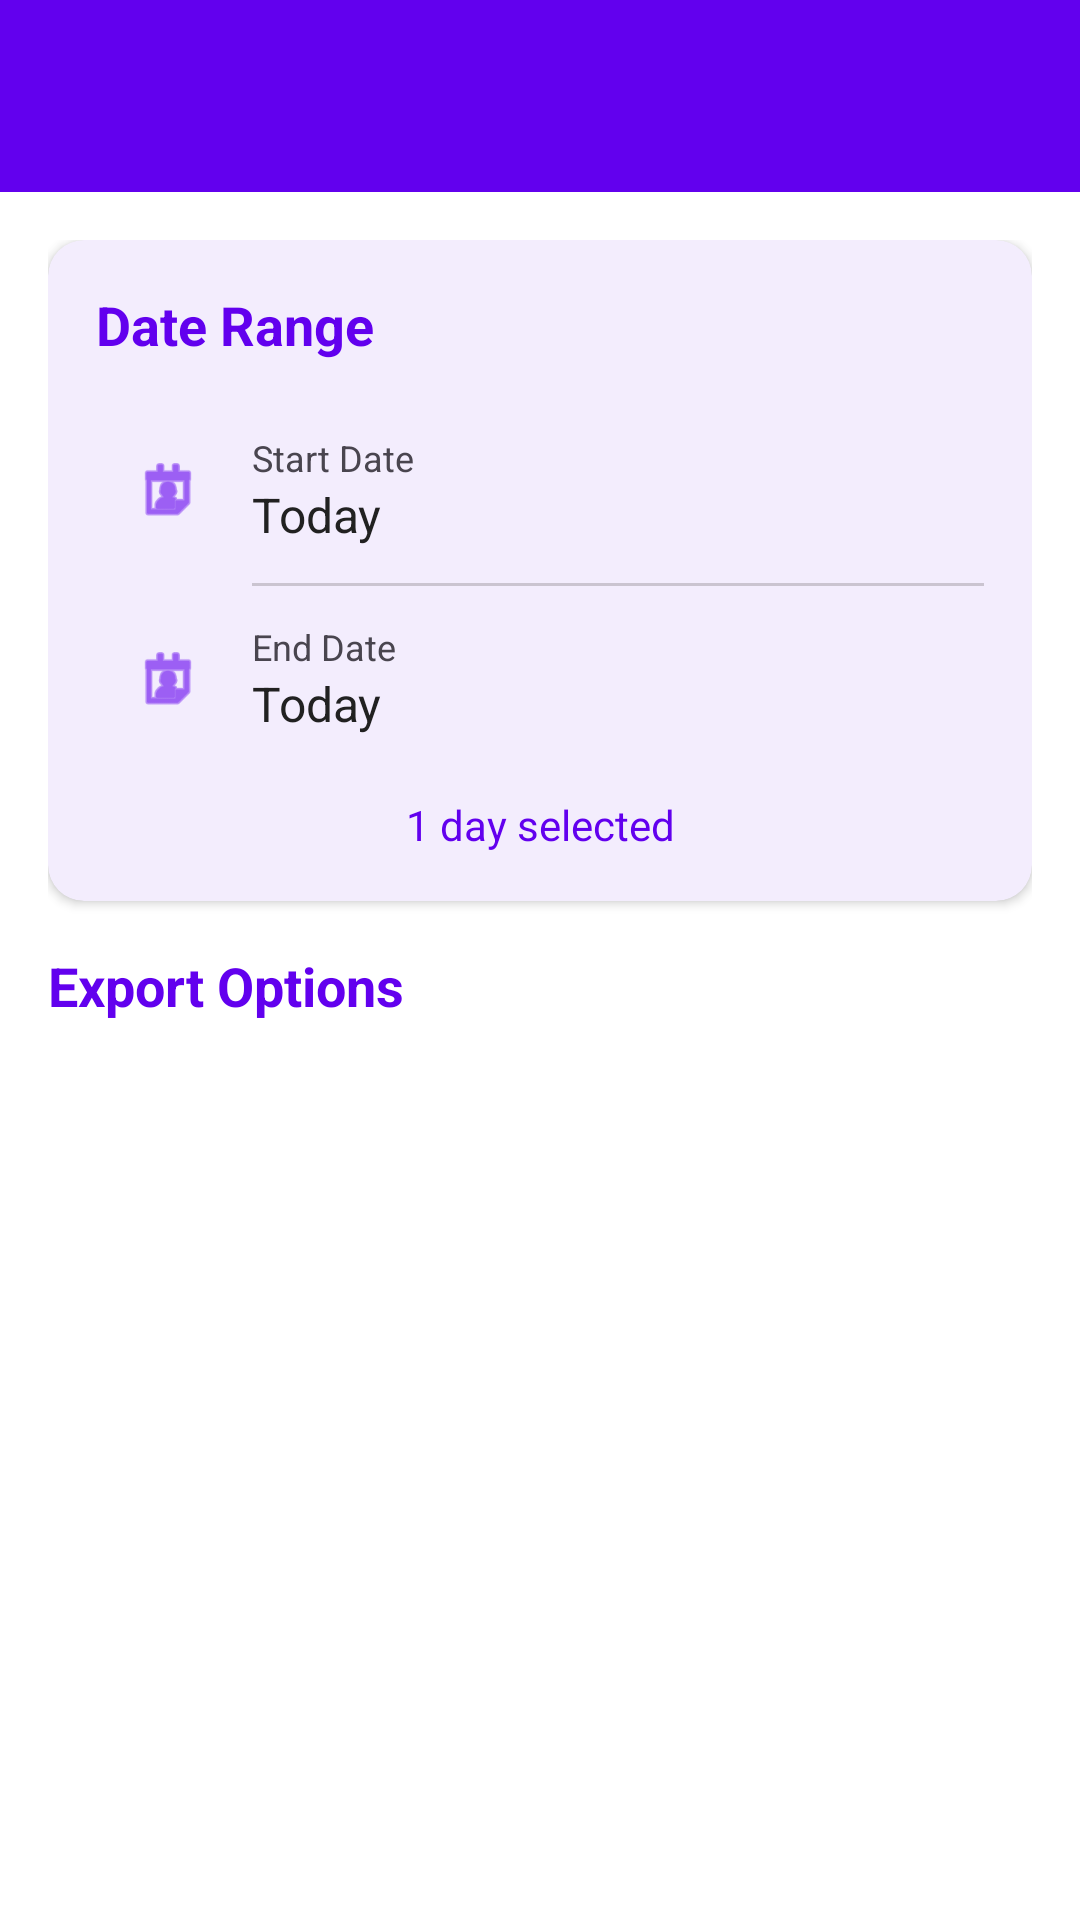

Icons on this 1080px×1920px Android screen, each with the point to tap as (x=x, y=y):
calendar: (x=168, y=489), (x=168, y=678)
